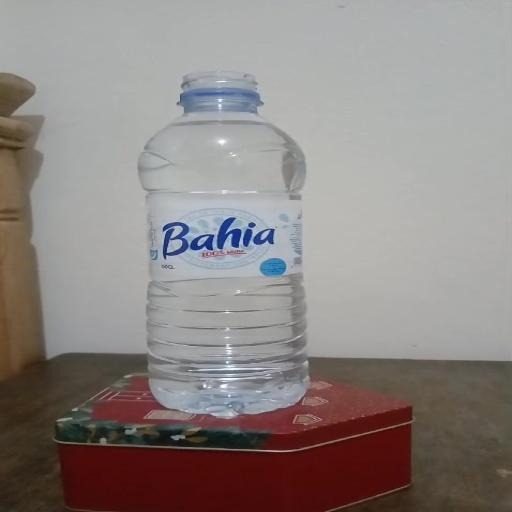bouteille non conformite: (114, 51, 334, 415), (154, 66, 301, 116)
